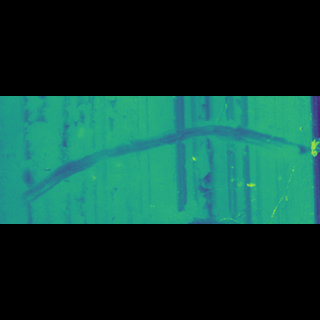Loch: (4, 138, 319, 182)
